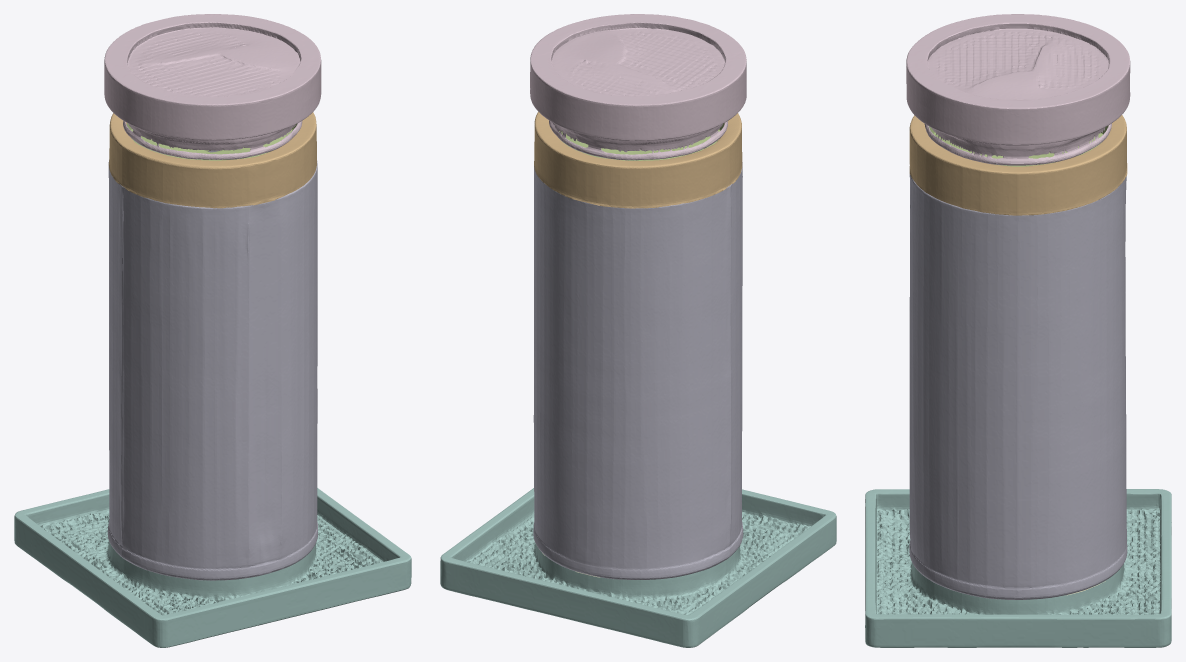
Rendered from markmate_materials_preserved.glb.
3 renders of one model, left to right at view 1: azimuth 30°, elevation 25°; view 2: azimuth 150°, elevation 25°; view 3: azimuth 270°, elevation 25°, orthographic. The views are drawn at different scales.
Visible parts, largest first — view 1: geometry_0; view 2: geometry_0; view 3: geometry_0.
Part boxes in pixels (x1,y1,x2,y2): geometry_0: (14, 14, 411, 647); geometry_0: (440, 14, 836, 647); geometry_0: (865, 14, 1171, 647).
Bounding box in the file's own units: 0.5309 × 1 × 0.5304.
